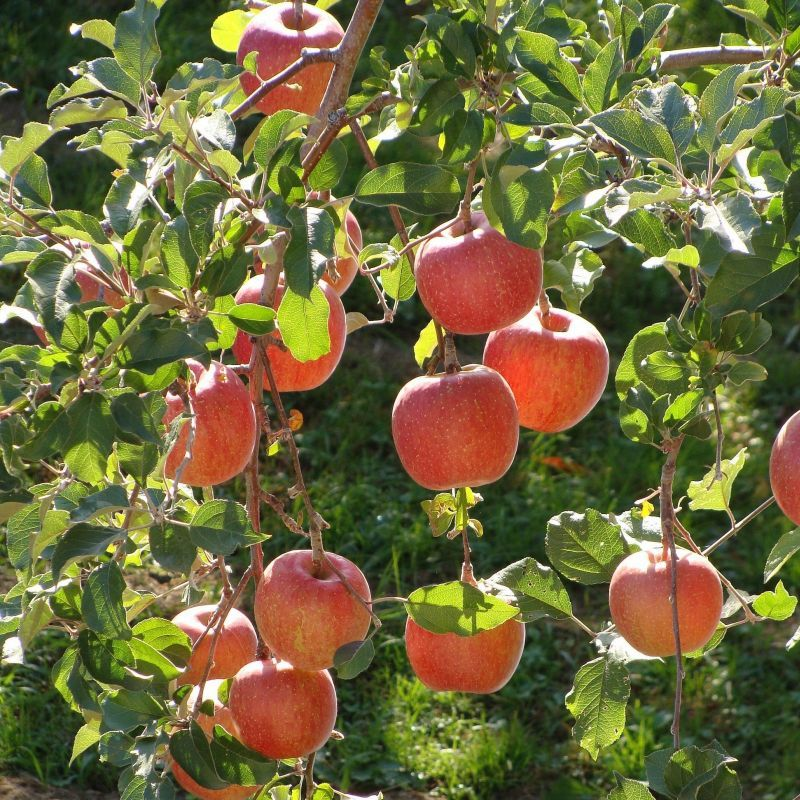apple: (483, 306, 607, 430), (415, 208, 537, 330), (228, 270, 350, 392), (394, 367, 515, 488), (252, 548, 372, 668), (138, 363, 258, 483), (232, 3, 347, 118), (409, 582, 522, 695), (610, 546, 721, 657), (233, 659, 332, 758), (167, 606, 251, 690)
